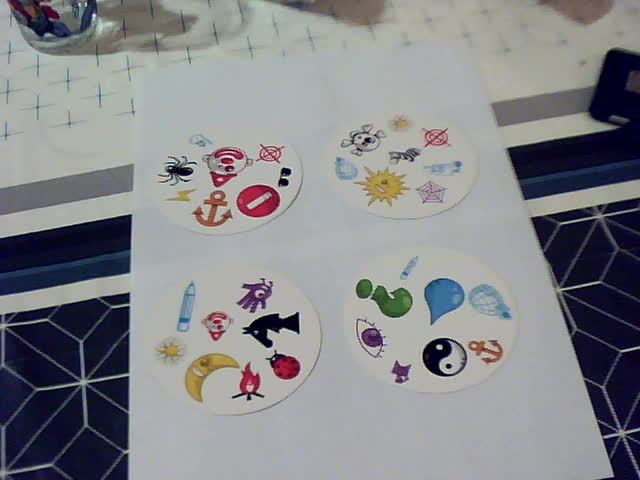ancre: (191, 188, 235, 228), (464, 336, 508, 365)
araignee: (154, 151, 200, 186)
bonhomme_neige: (183, 127, 215, 152)
chat: (387, 359, 415, 387)
cheval: (239, 310, 311, 348)
cible: (253, 140, 288, 167), (420, 122, 455, 149)
clown: (201, 141, 251, 189), (198, 304, 235, 343)
coccinelle: (263, 347, 308, 384)
crayon: (173, 278, 201, 334), (396, 251, 424, 283)
dooble: (235, 274, 277, 314)
eclair: (161, 185, 201, 203)
feu: (232, 358, 268, 406)
fleur: (148, 331, 190, 367), (384, 110, 415, 134)
goutte: (419, 276, 467, 328)
igloo: (466, 277, 514, 321), (328, 151, 359, 183)
lunette: (274, 165, 297, 192)
oeuil: (353, 314, 390, 362)
point_interrogation: (354, 276, 417, 320)
sens_interdit: (237, 181, 282, 219)
soleil: (357, 164, 413, 209)
tete_mort: (336, 118, 386, 155)
toile: (414, 178, 449, 206)
ying_yang: (420, 335, 469, 378)
zebre: (379, 142, 425, 166)
